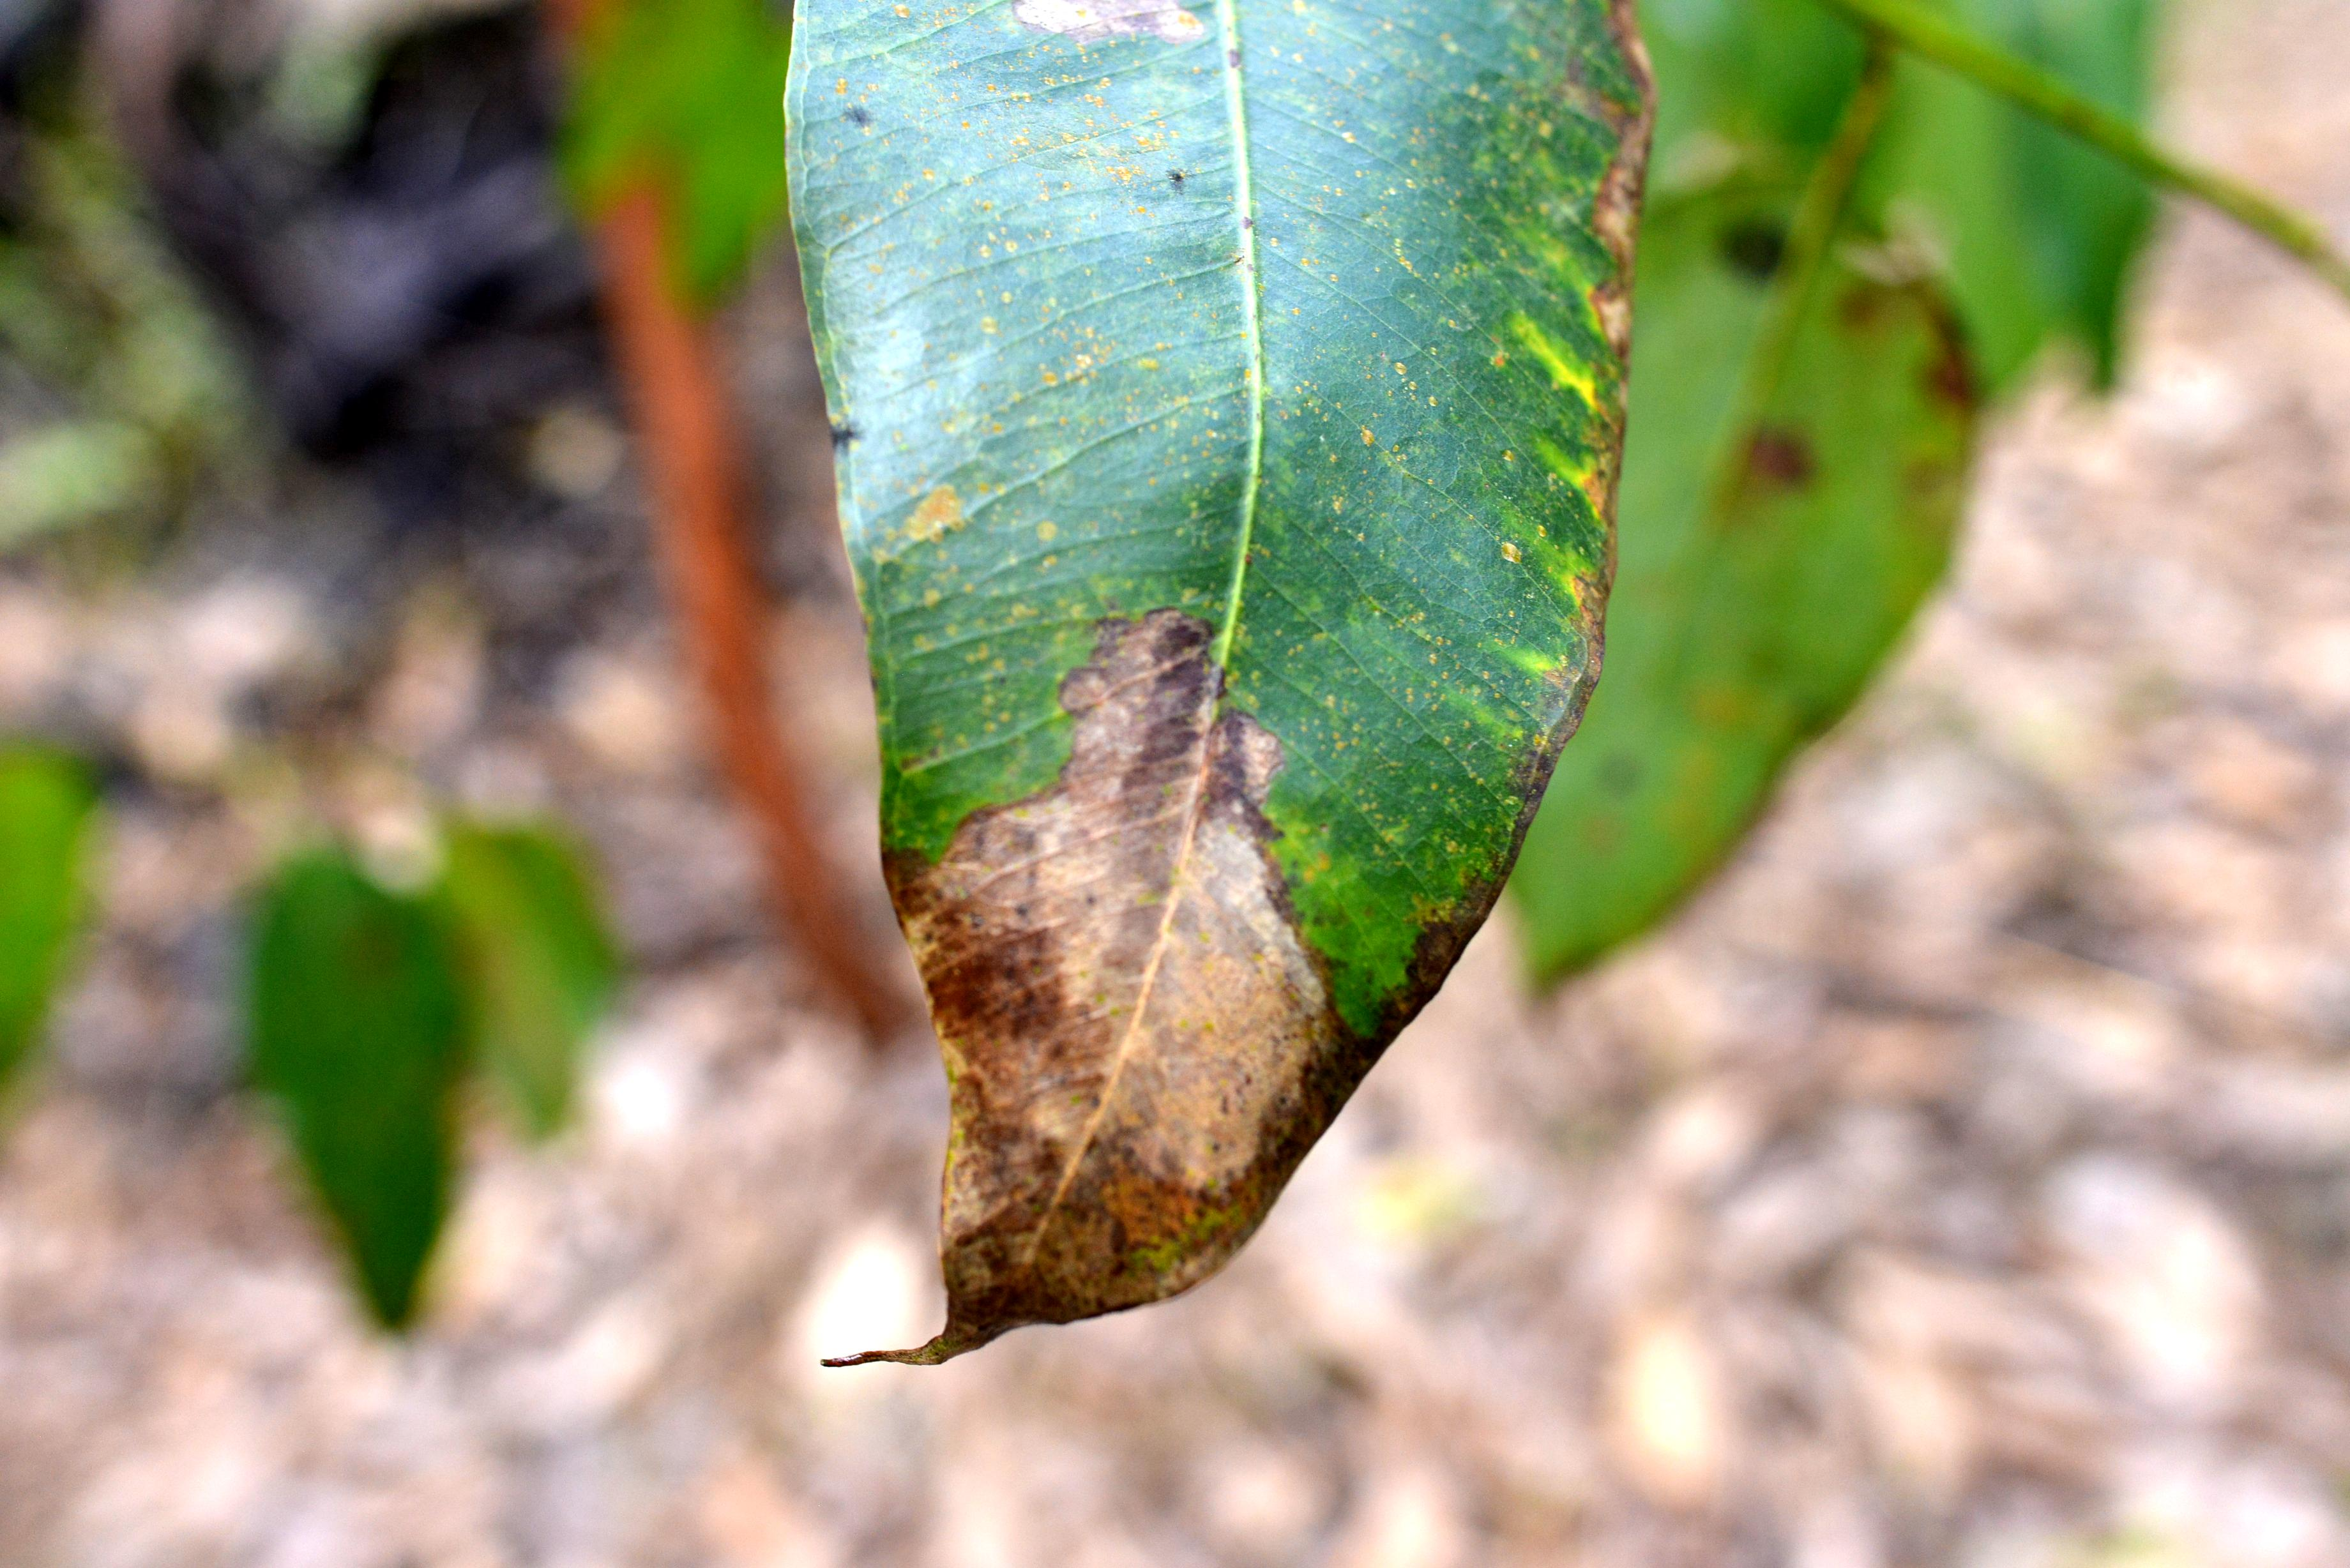Cylindrocladium: (847, 611, 1351, 1421), (1402, 0, 1641, 997), (1738, 240, 1981, 544)
